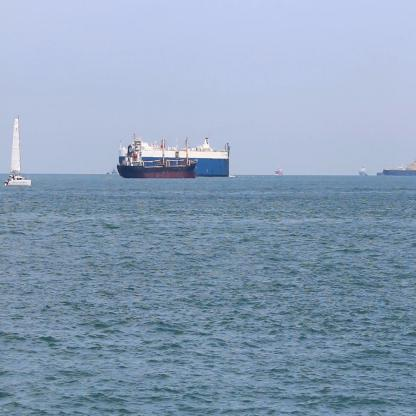Container Ship: (116, 133, 232, 179), (114, 128, 200, 182), (381, 160, 416, 178), (358, 163, 369, 179), (274, 164, 284, 178), (111, 164, 117, 178)
